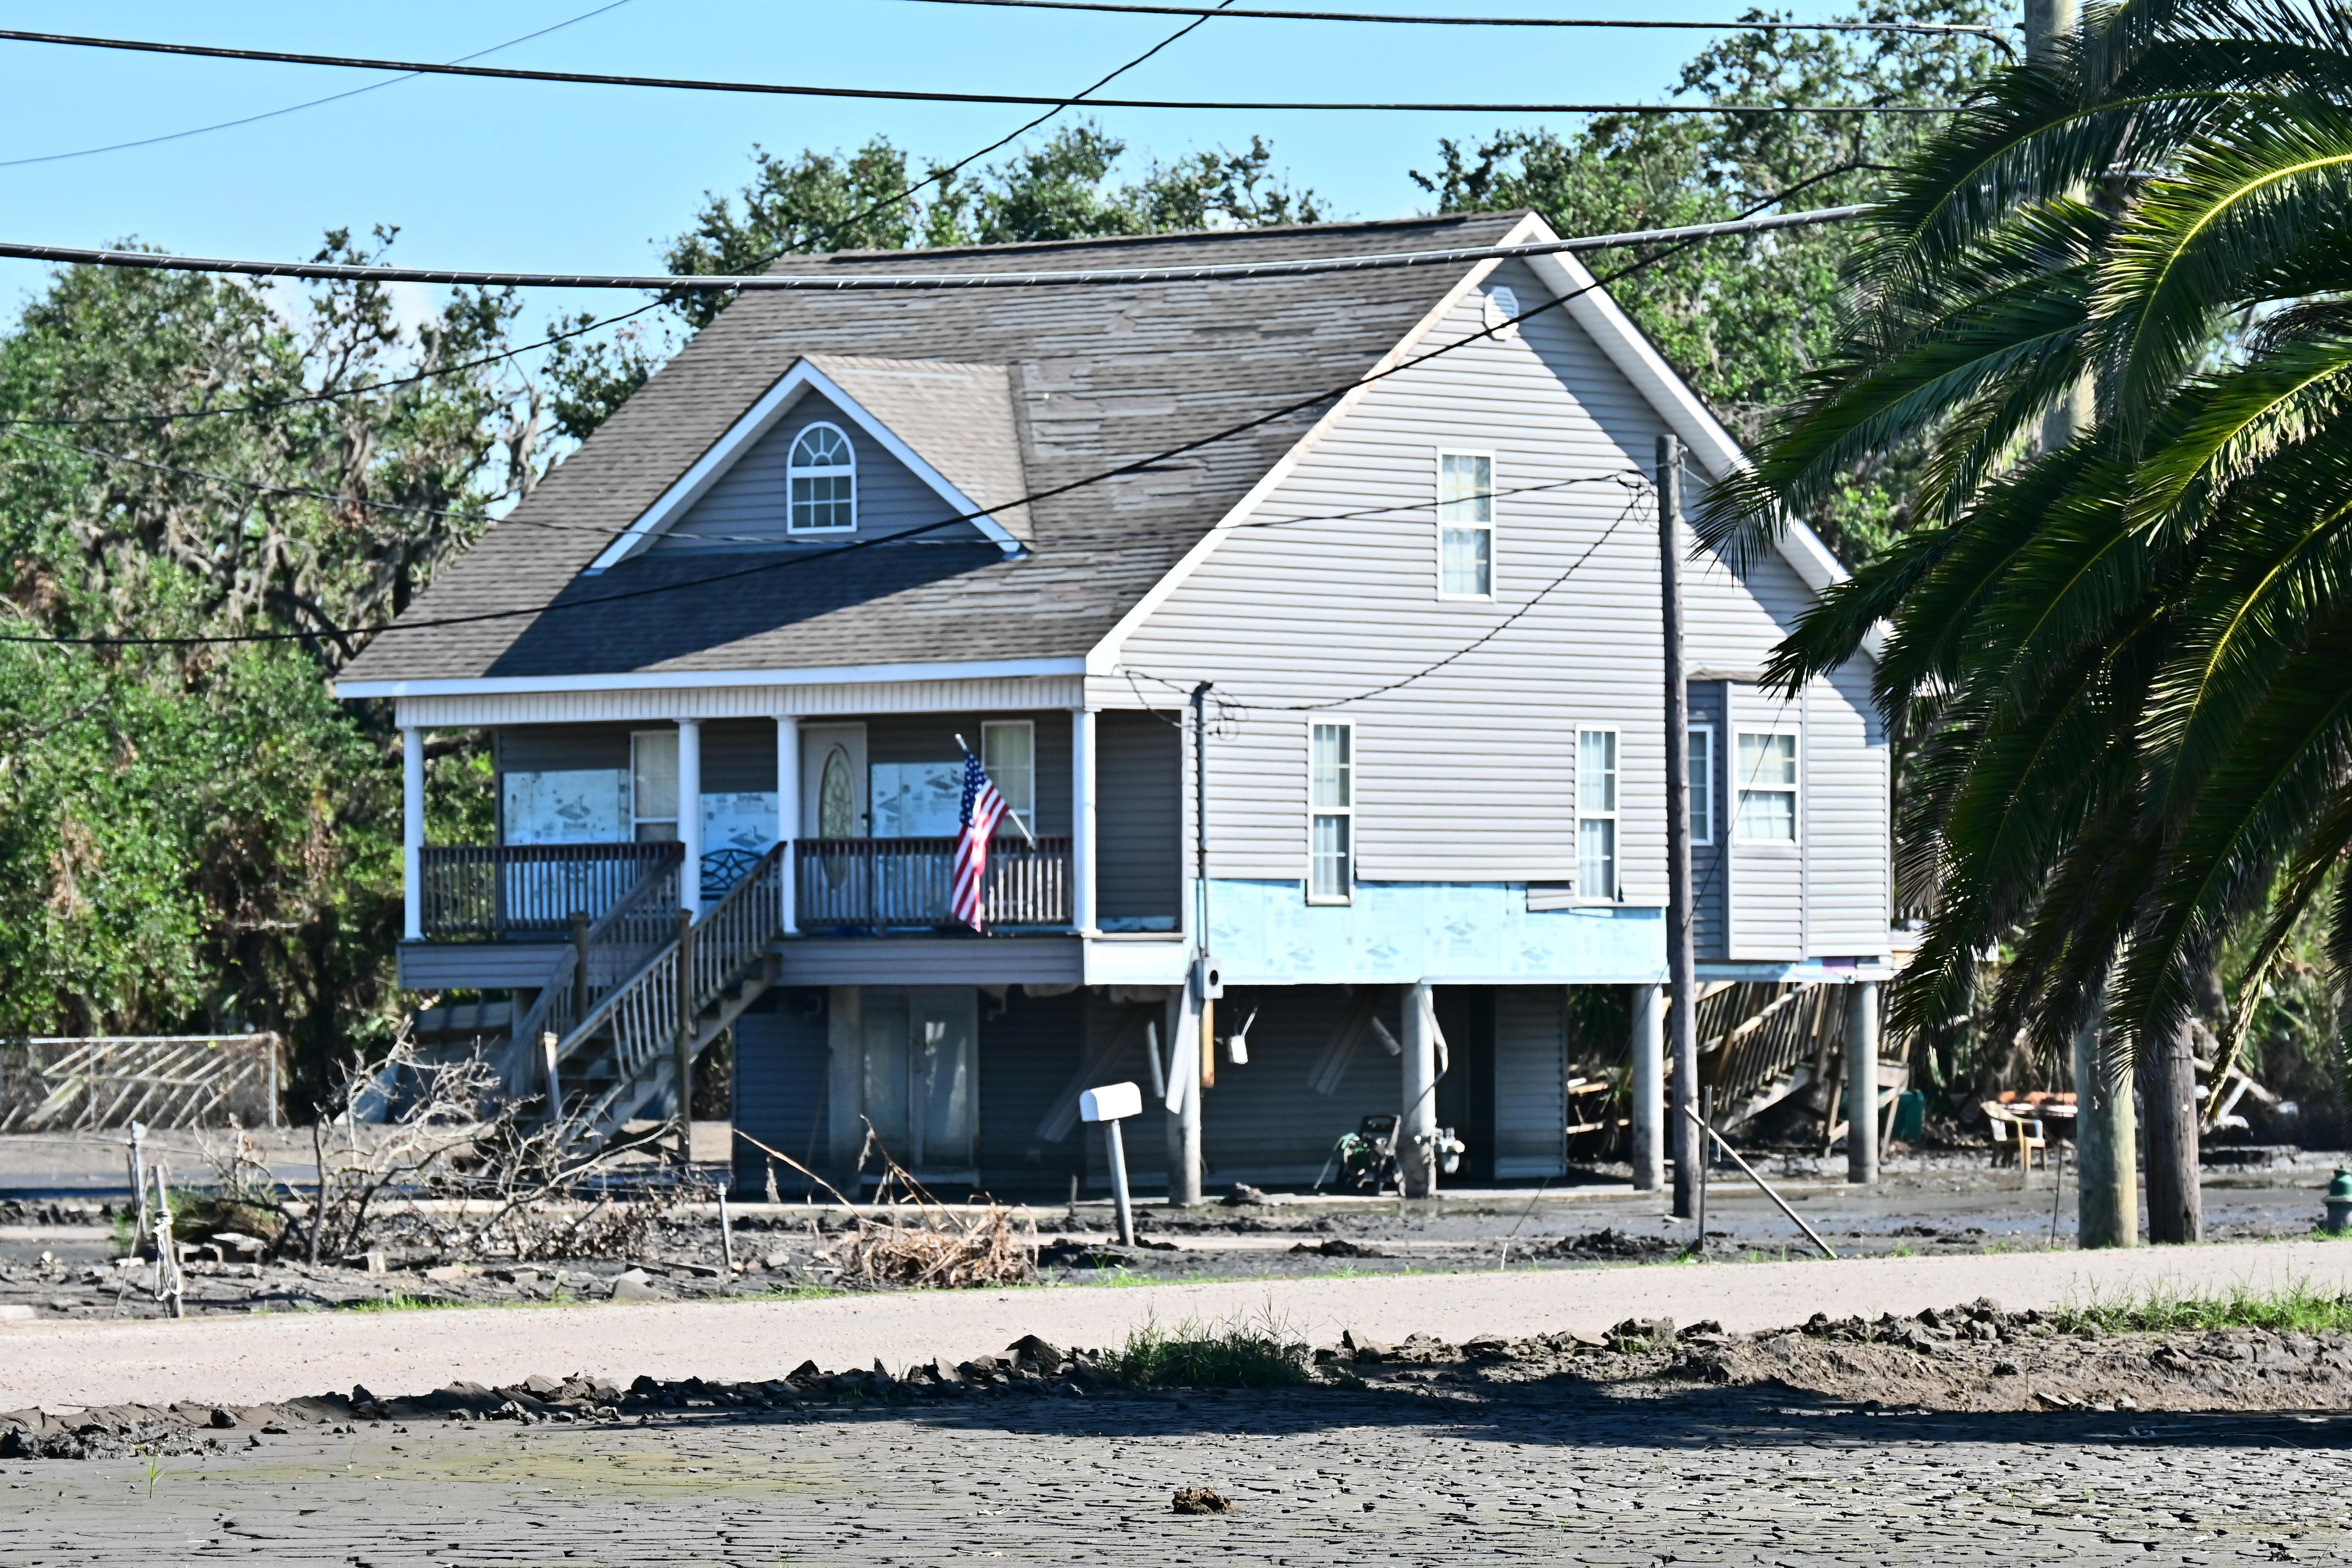minor: (359, 177, 1967, 1204)
